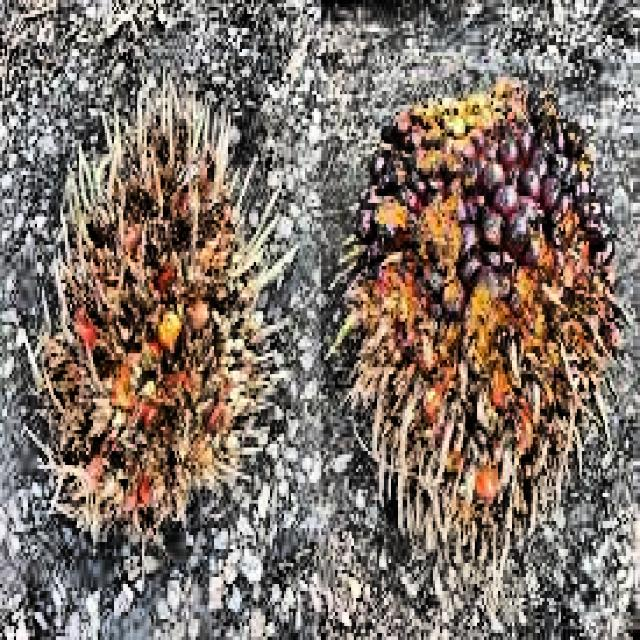FFB: (336, 106, 611, 546), (50, 88, 256, 541)
